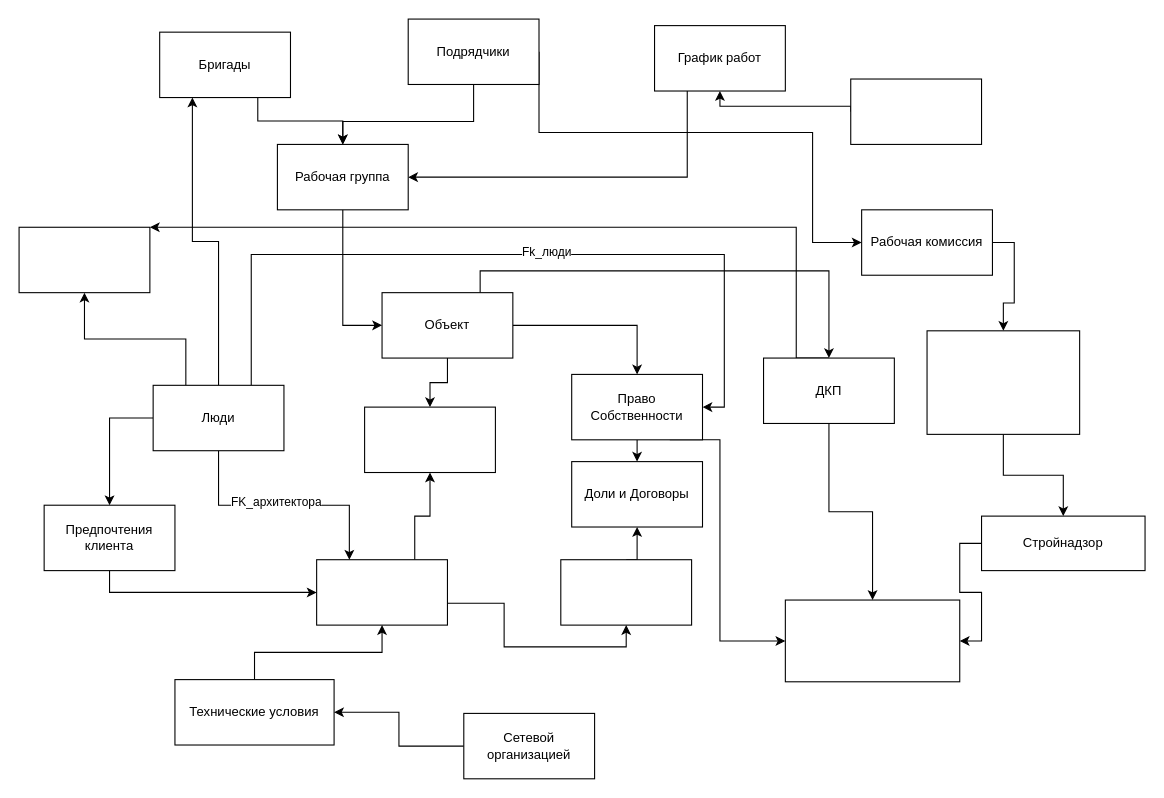
Some shapes in this 1164 by 798 pixel diagram are drawn without their labels. The shapes that lost their labels are listed below. From the top down, each one's box as (x1, y1, x2, y2) in pixels, then its label:
(850, 78, 982, 144): Отдел строительства
(18, 226, 150, 293): ДКП клиент
(926, 330, 1080, 434): Акт приемки выполненных работ
(364, 406, 495, 473): Чертежи обьекта
(316, 559, 447, 625): Планы и чертежи
(560, 559, 692, 625): Договор
(784, 599, 960, 682): Заключение
